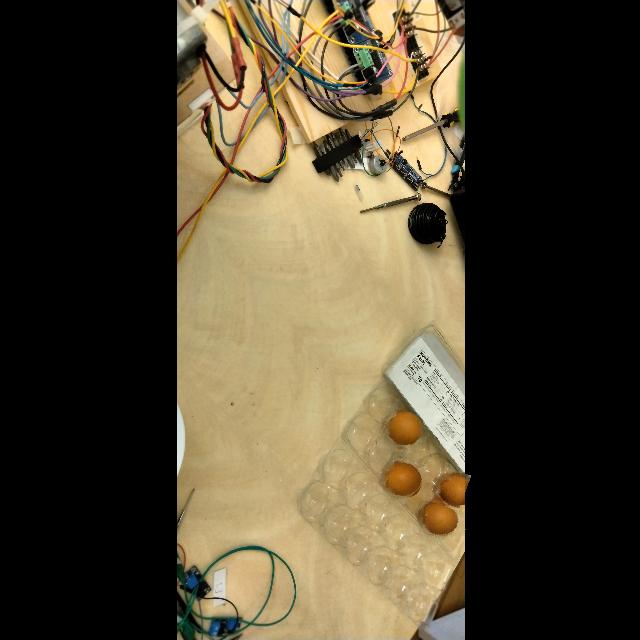Egg: (414, 495, 462, 543), (379, 459, 425, 503), (382, 411, 424, 449), (434, 468, 466, 510)
